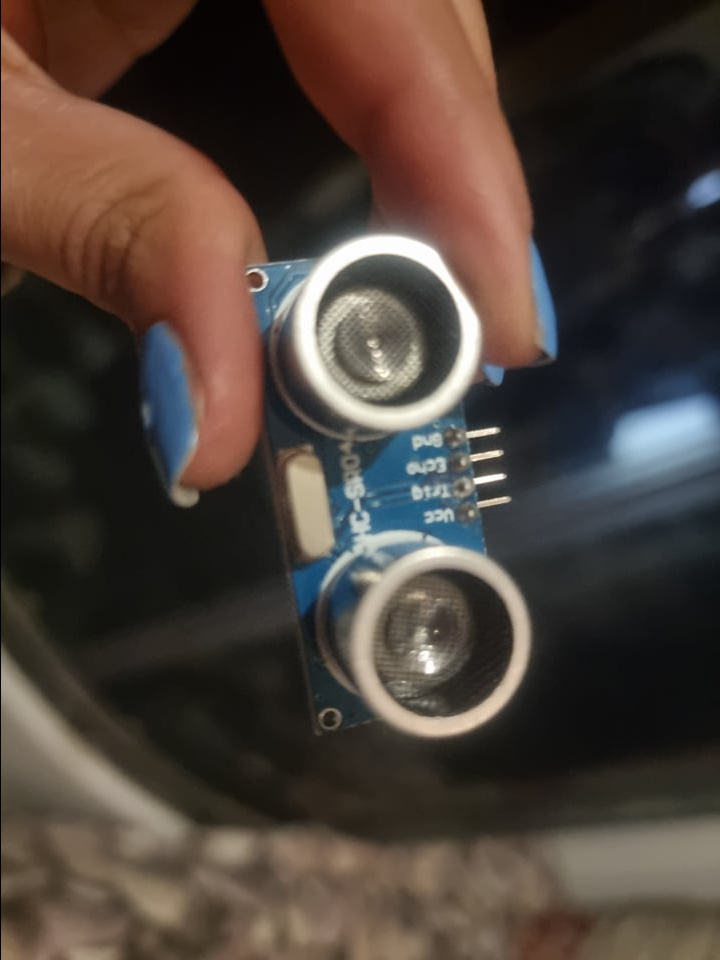SENSOR: (244, 218, 533, 749)
